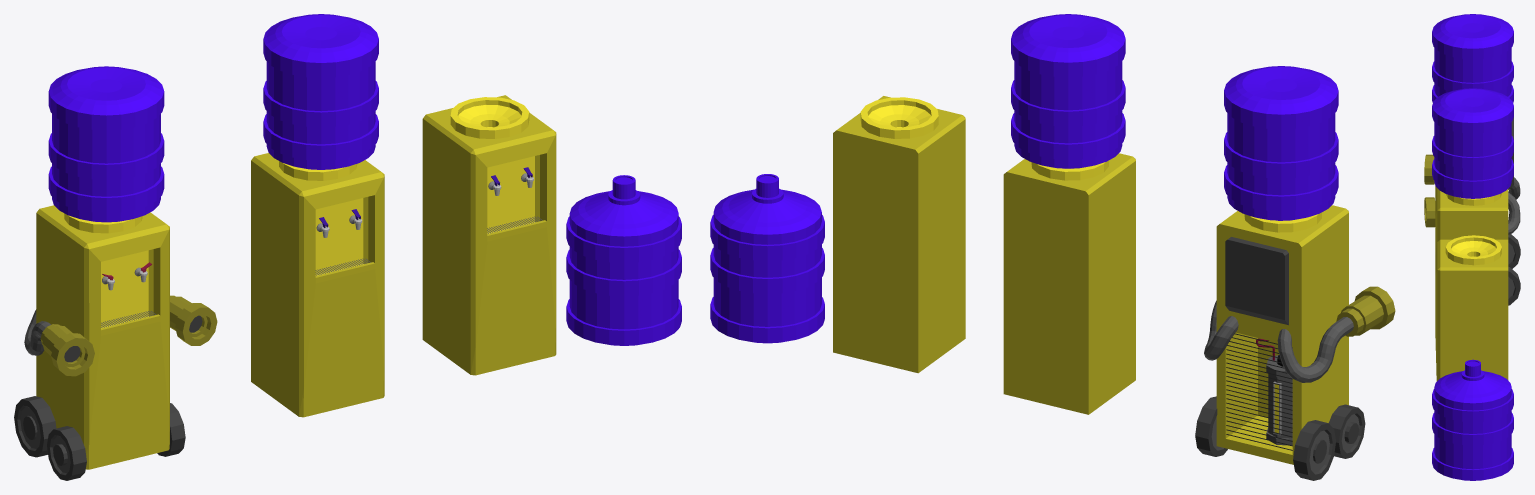
File: bebedouro.fbx
3 renders of one model, left to right at view 1: azimuth 30°, elevation 25°; view 2: azimuth 150°, elevation 25°; view 3: azimuth 270°, elevation 25°, orthographic. The views are drawn at different scales.
Parts seen in each view (by area): view 1: Bebedouro, Bebedouro.001, Bebedouro.002, Galao; view 2: Bebedouro, Bebedouro.001, Bebedouro.002, Galao; view 3: Bebedouro.001, Bebedouro.002, Galao, Bebedouro.
Part boxes in pixels (bbox=[...]): Bebedouro: bbox=[14, 66, 217, 480]; Bebedouro.001: bbox=[251, 14, 384, 417]; Bebedouro.002: bbox=[422, 95, 556, 375]; Galao: bbox=[566, 175, 681, 345]; Bebedouro: bbox=[1195, 66, 1395, 480]; Bebedouro.001: bbox=[1003, 14, 1135, 414]; Bebedouro.002: bbox=[833, 96, 965, 373]; Galao: bbox=[710, 174, 824, 343]; Bebedouro.001: bbox=[1432, 88, 1513, 253]; Bebedouro.002: bbox=[1435, 235, 1508, 381]; Galao: bbox=[1432, 359, 1513, 480]; Bebedouro: bbox=[1424, 14, 1520, 305].
Size of the model in its own units: 1514 by 827 by 275.
